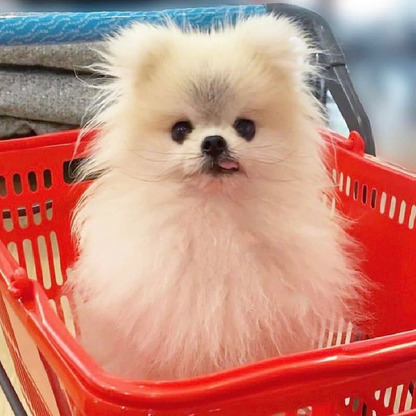Pomeranian: (65, 16, 346, 369)
